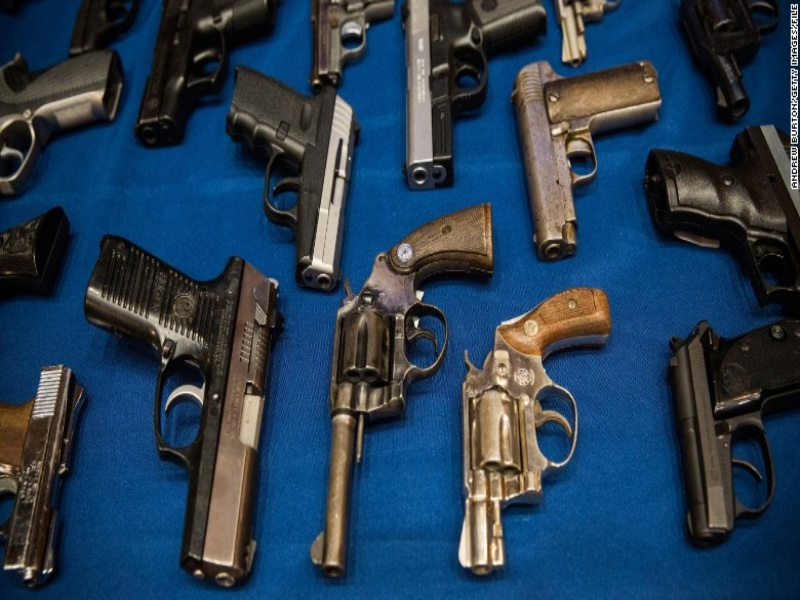gun: (316, 200, 491, 588), (86, 231, 270, 570), (454, 283, 618, 571), (222, 55, 368, 283), (510, 58, 670, 261), (673, 312, 794, 551), (403, 1, 541, 195), (132, 3, 276, 150)
